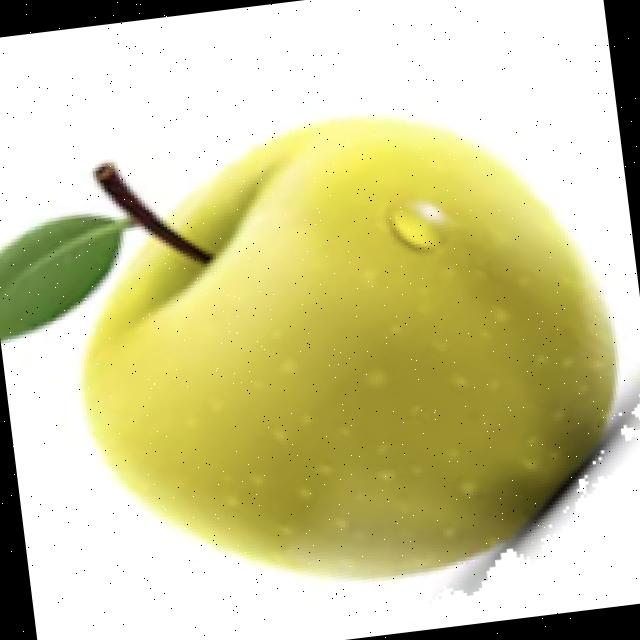apple: (0, 111, 640, 600)
